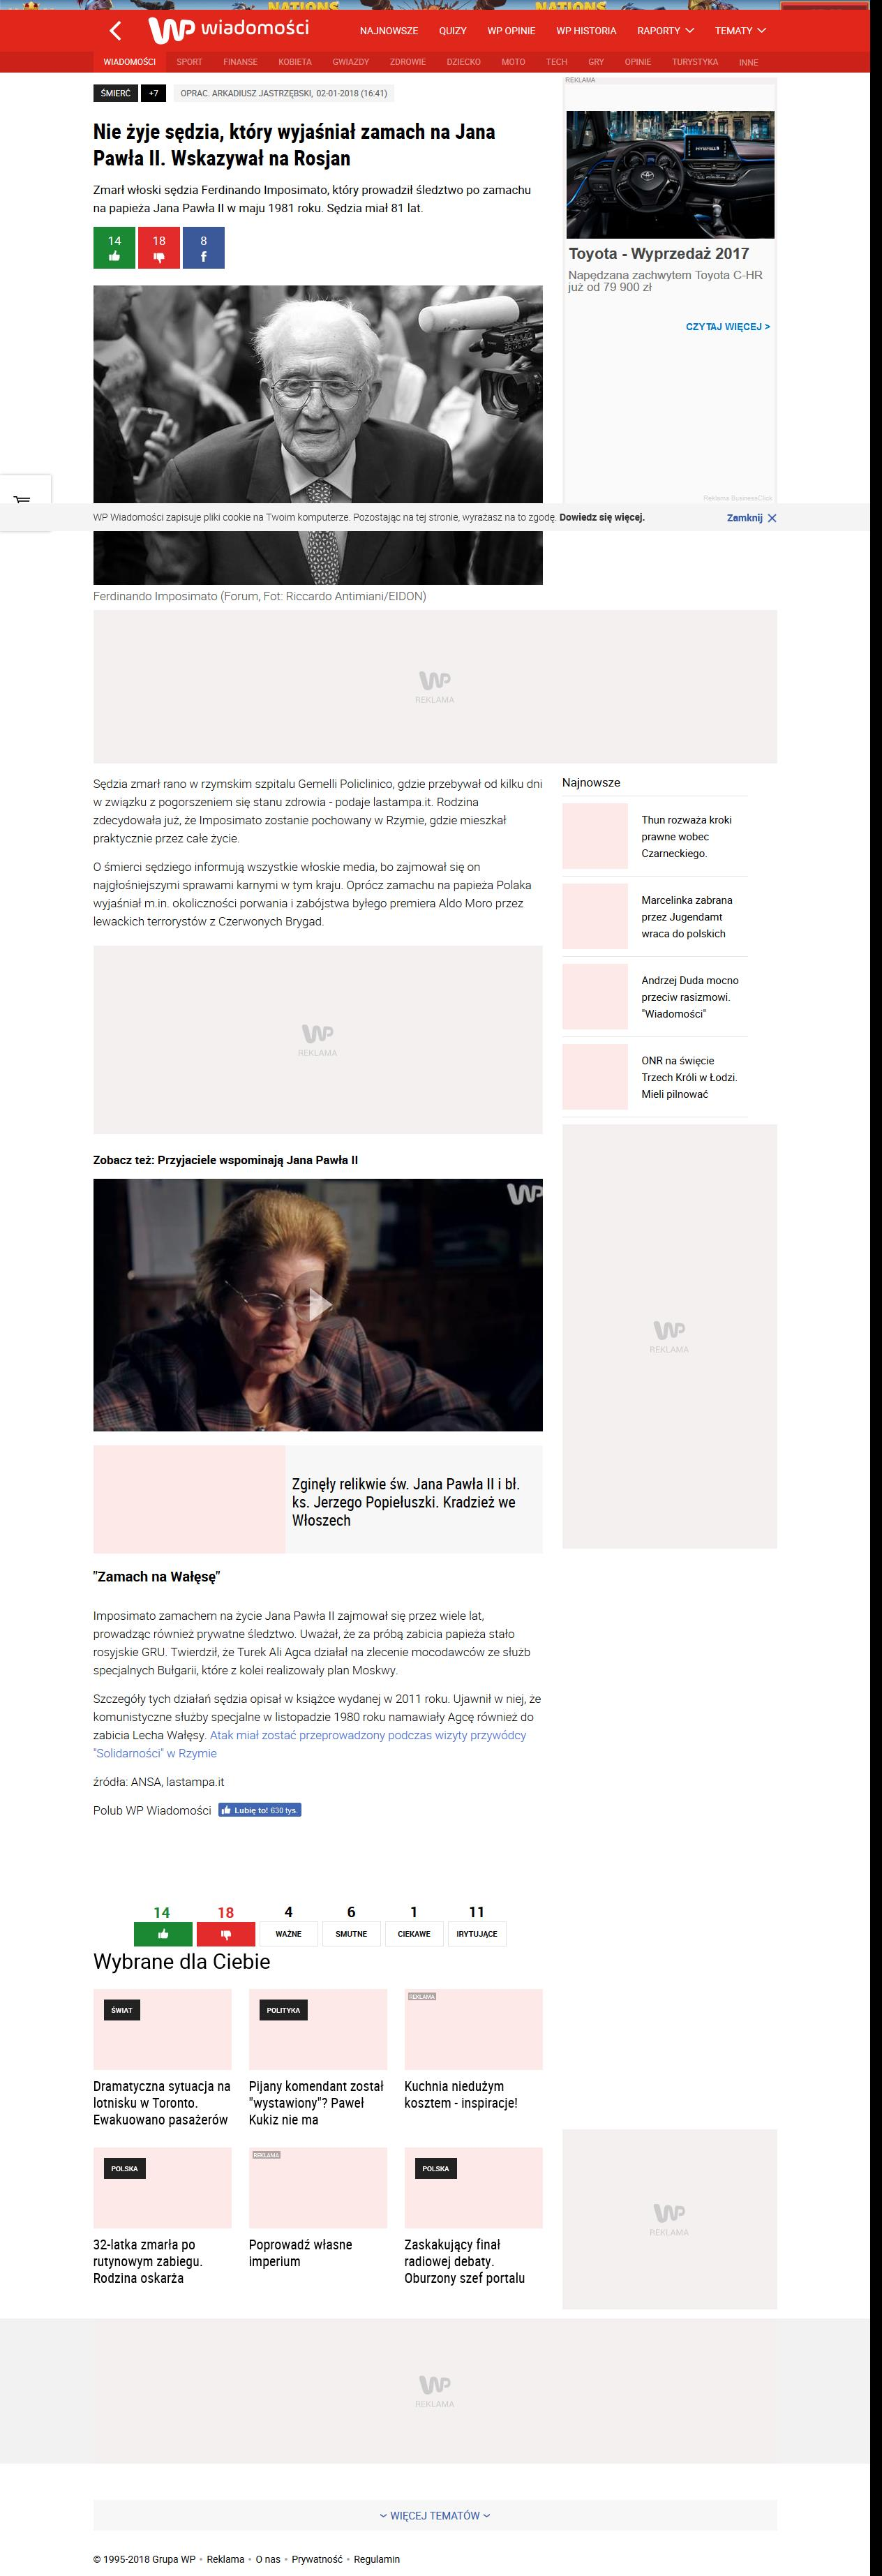title: (94, 120, 496, 169)
